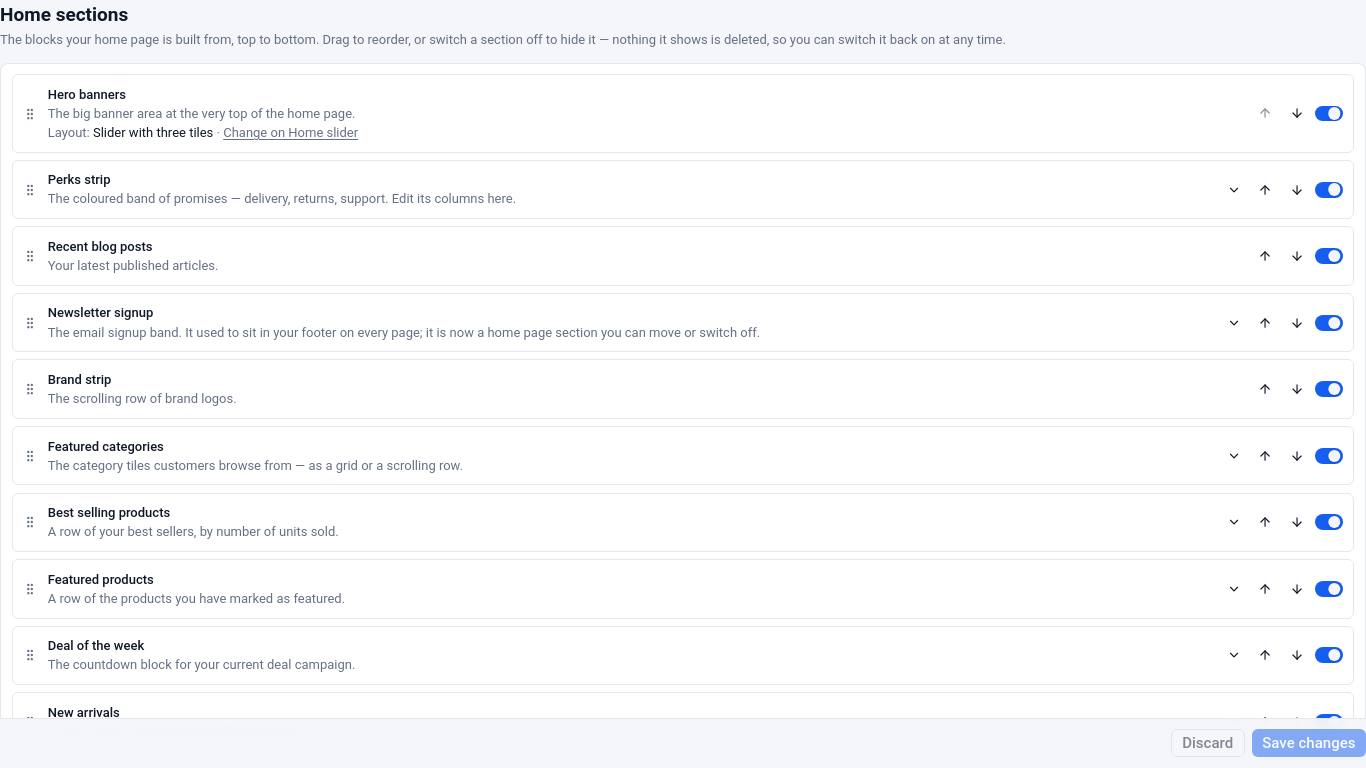
the perks strip editor › adds and removes a column, and stops at the band capacity
The width and height of the screenshot is (1366, 768).
Click the button named "perks strip settings": (1234, 190) 1220,176 -> 1248,204
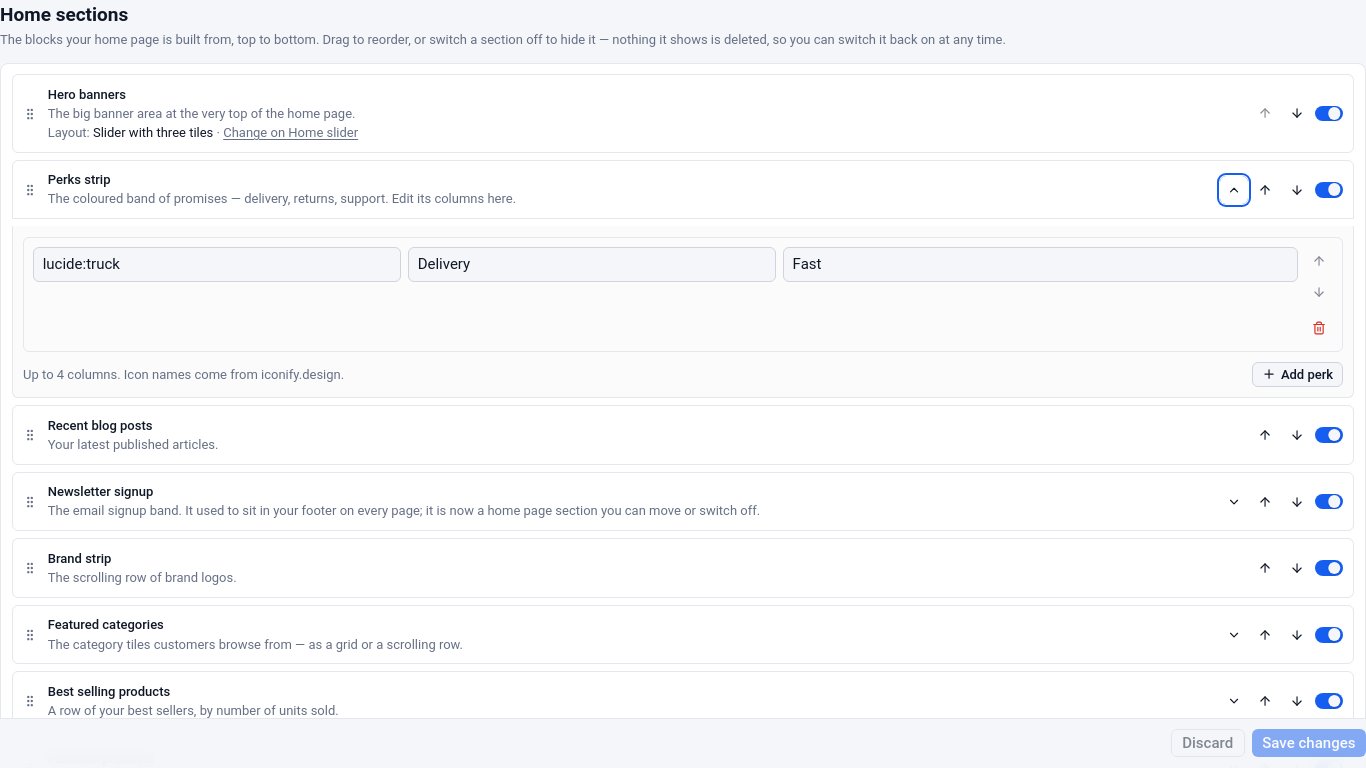
Click the button "Add perk": (1297, 374) 1252,362 -> 1343,387
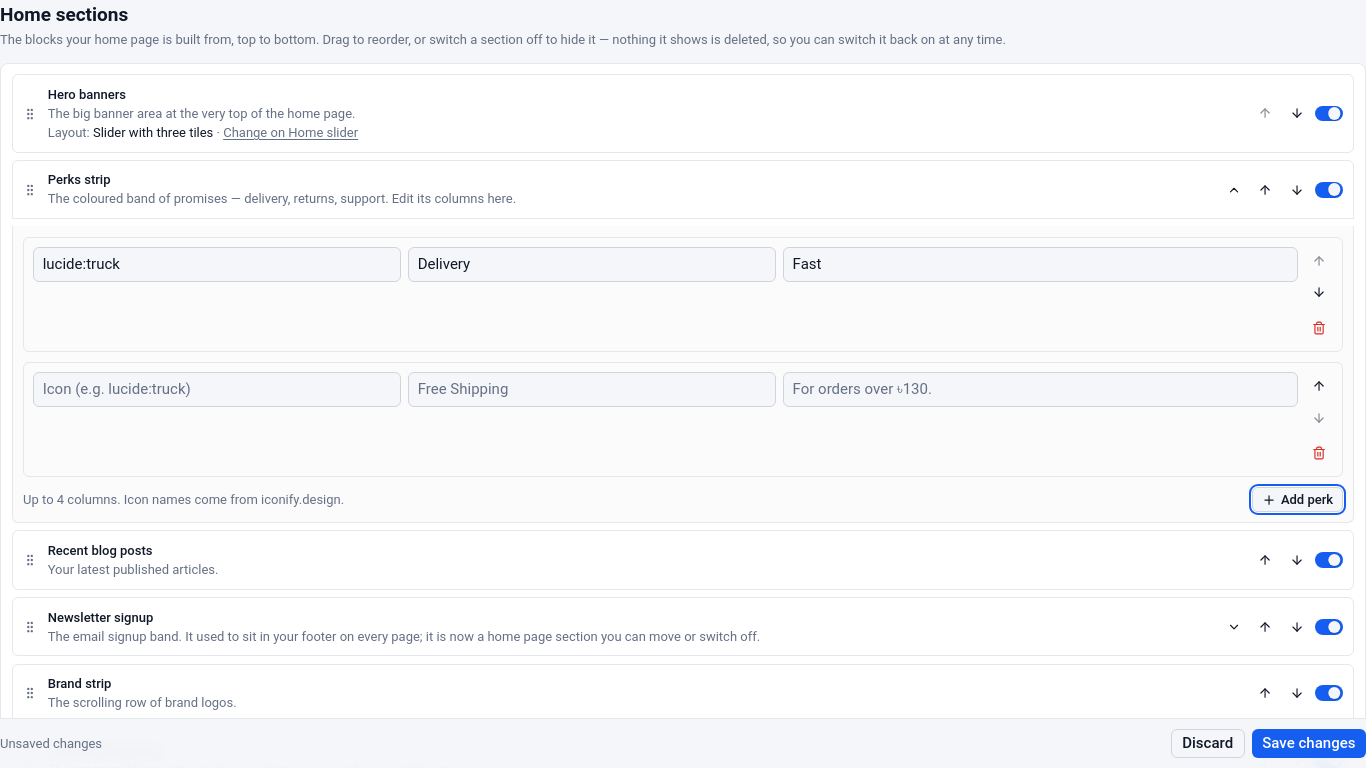
Click the button "Add perk": (1297, 500) 1252,487 -> 1343,512
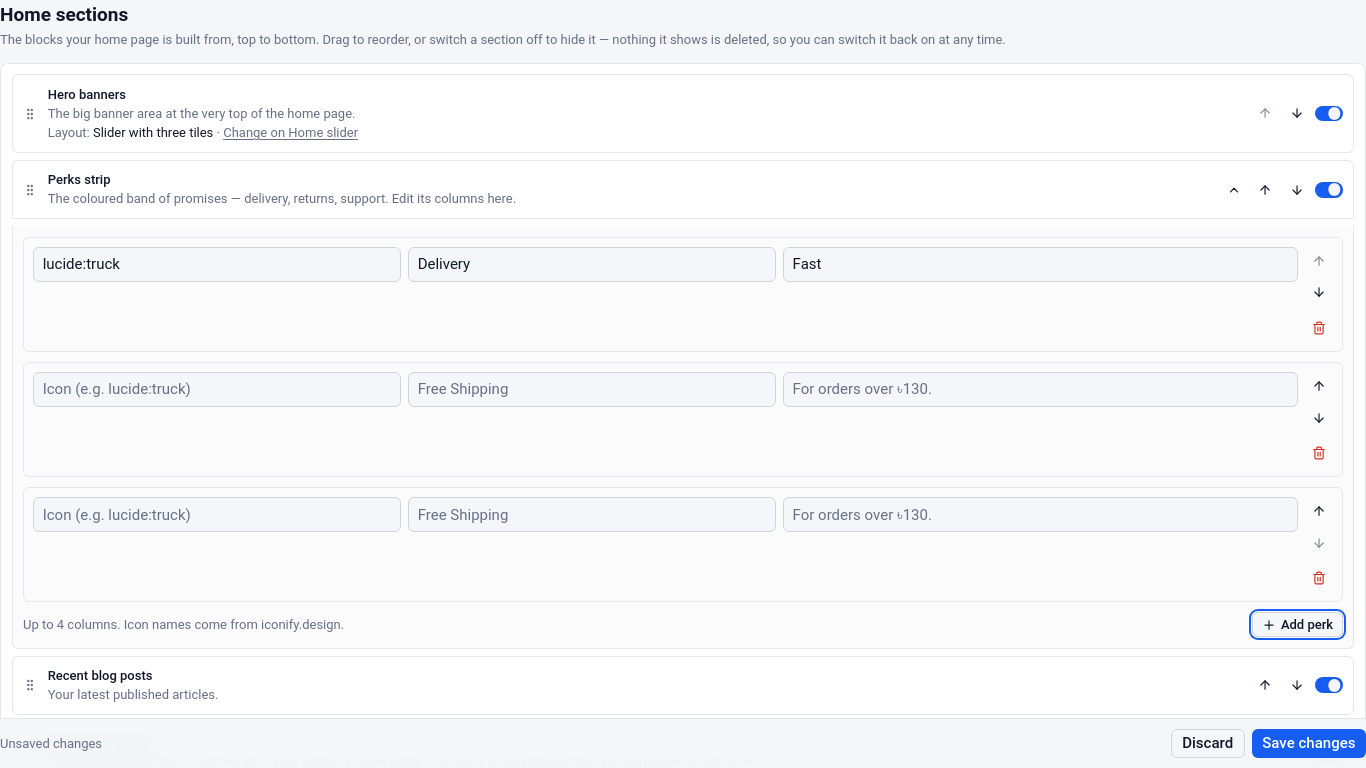
Click the button "Add perk": (1297, 625) 1252,612 -> 1343,637
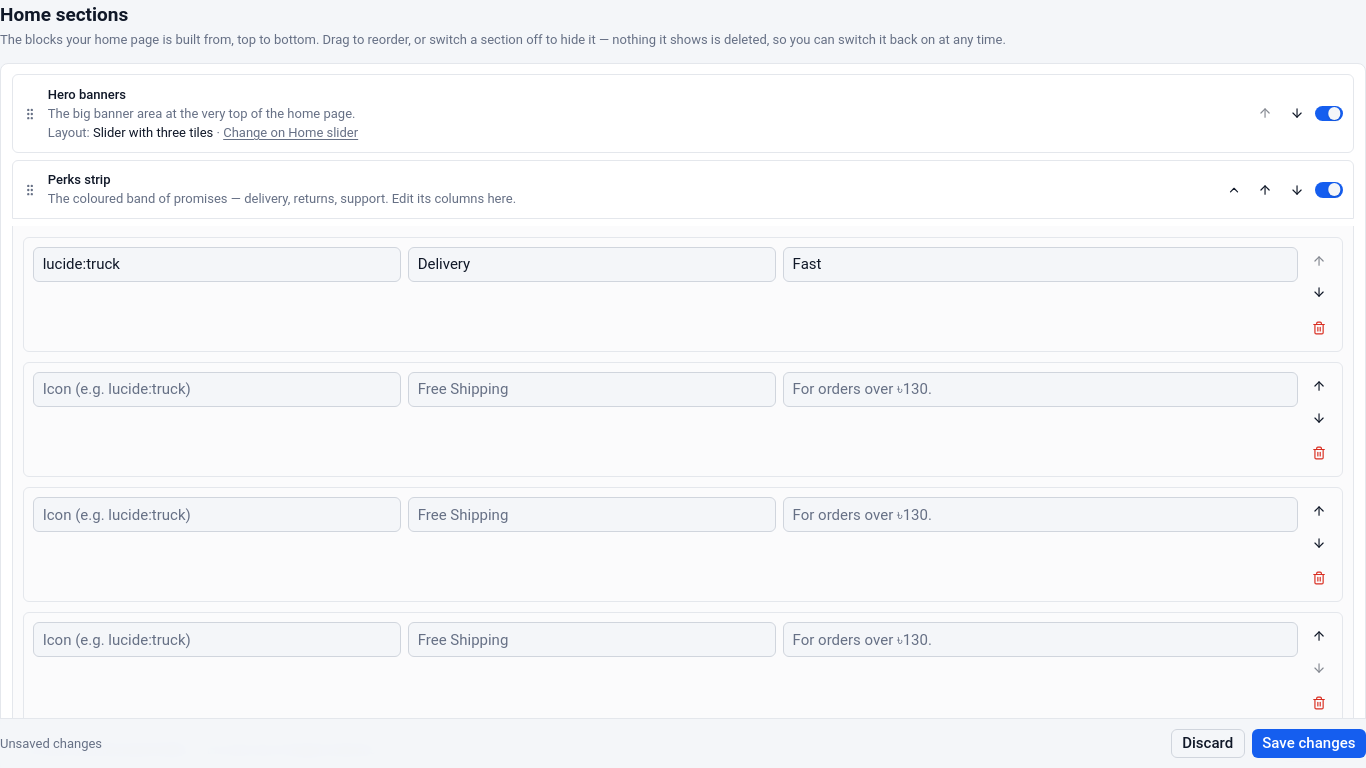
Expected: the button "Add perk" is disabled, 1252,738 -> 1343,762
Click the 4th button named "remove perk": (1319, 703) 1305,689 -> 1333,717
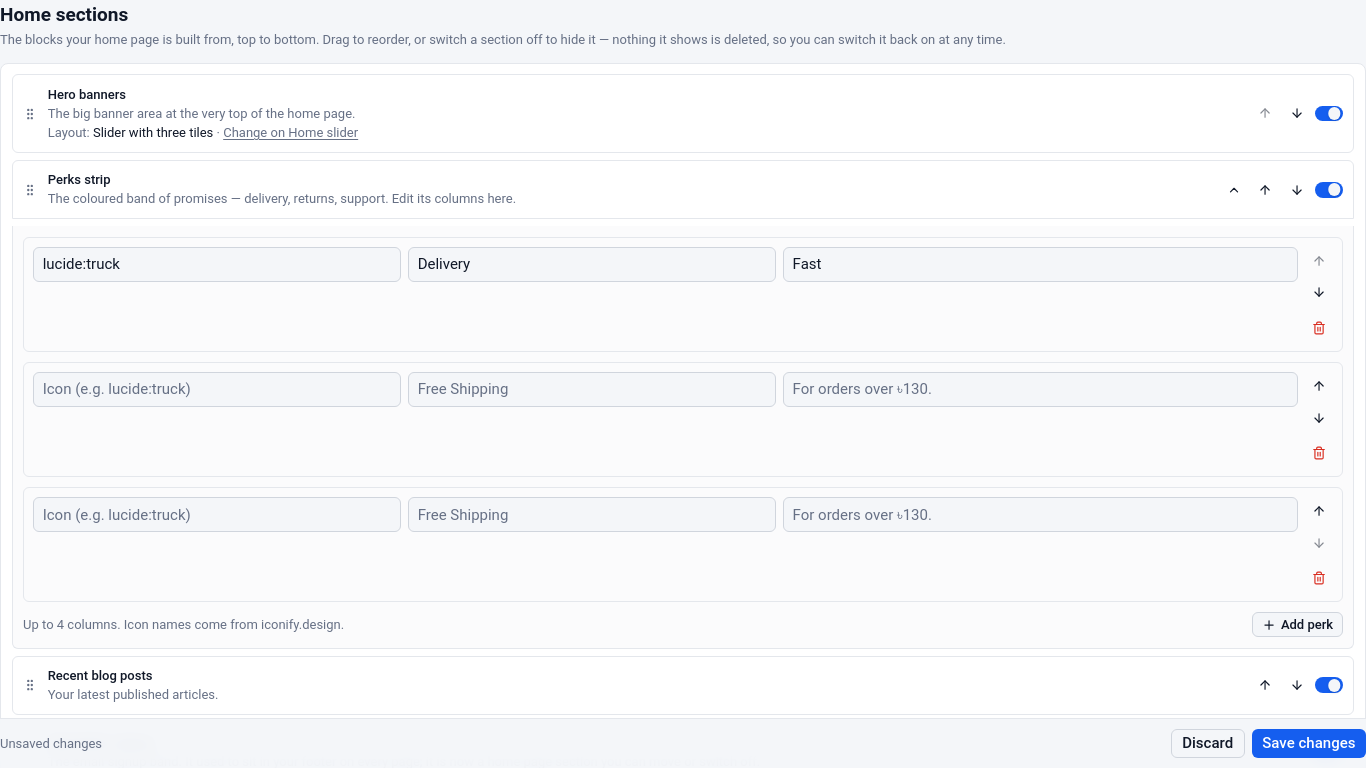
Expected: the button "Add perk" is enabled, 1252,612 -> 1343,637
